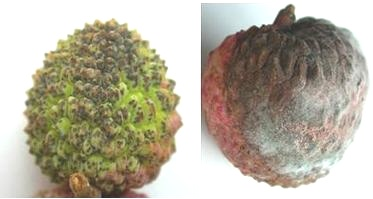Anthracnose: (238, 43, 366, 167), (60, 42, 174, 176)
